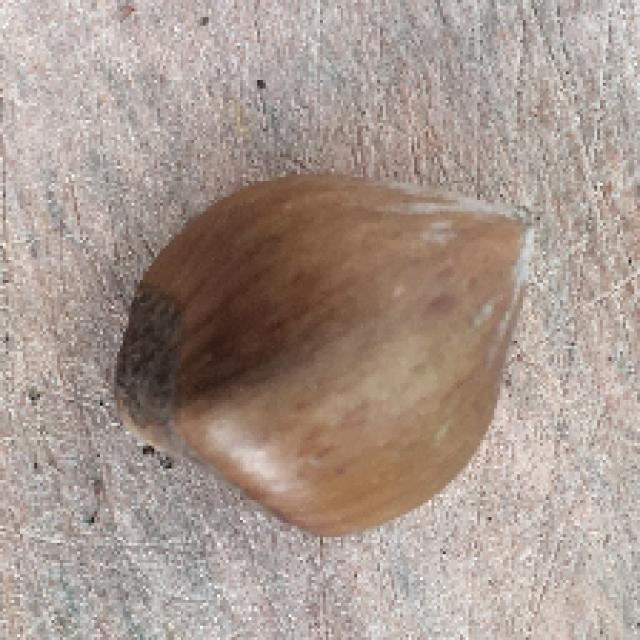qualityHazelnut: (110, 165, 545, 536)
